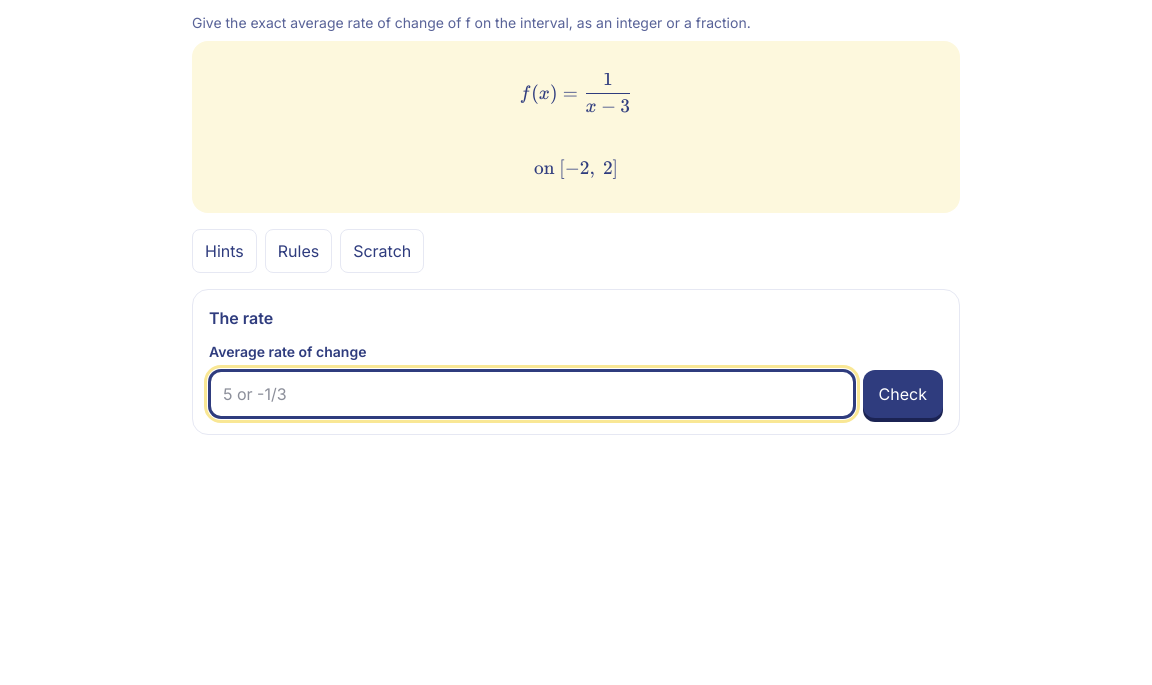
it: finishing a problem with the math keypad alone › a number answer: an average rate of change, −1/5
This screenshot has width=1152, height=685.
Click the field labelled "Average rate of change" at (532, 394), box 209,370 -> 855,418
(page scrolled)
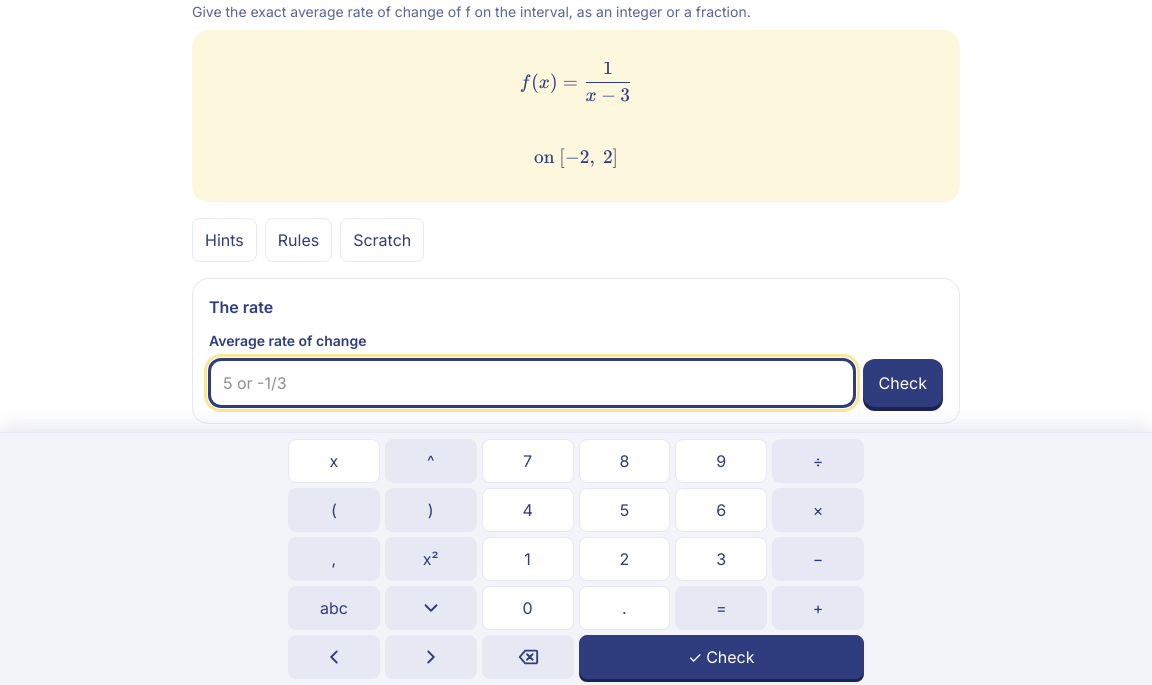
expect the element named "Math keypad" is shown: met, box 0,432 -> 1151,684
Click the button named "minus" at (818, 559), box 772,537 -> 864,581
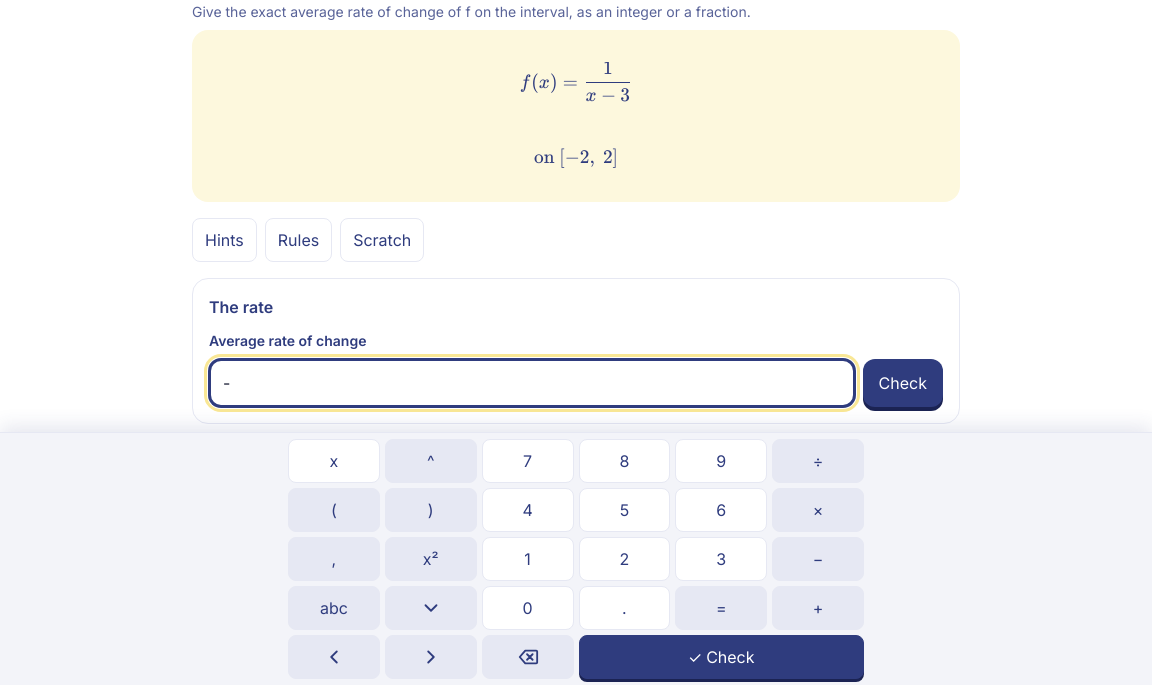
Click the button "1" at (528, 559), box 482,537 -> 574,581
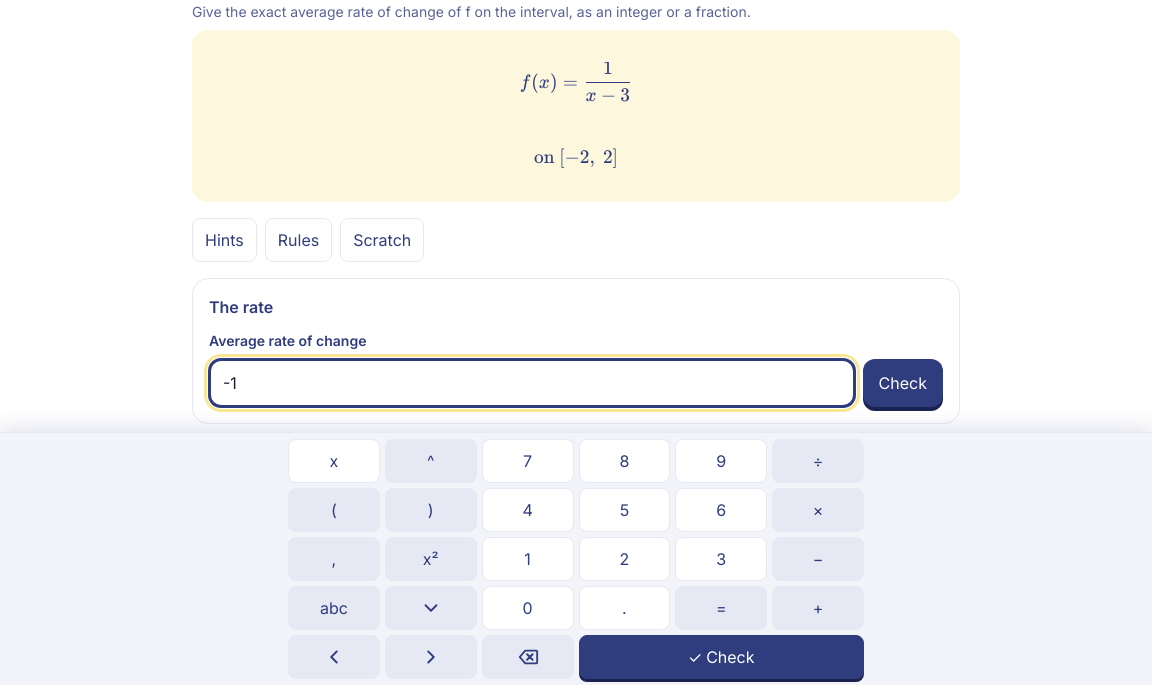
Click the button named "divide" at (818, 461), box 772,439 -> 864,483
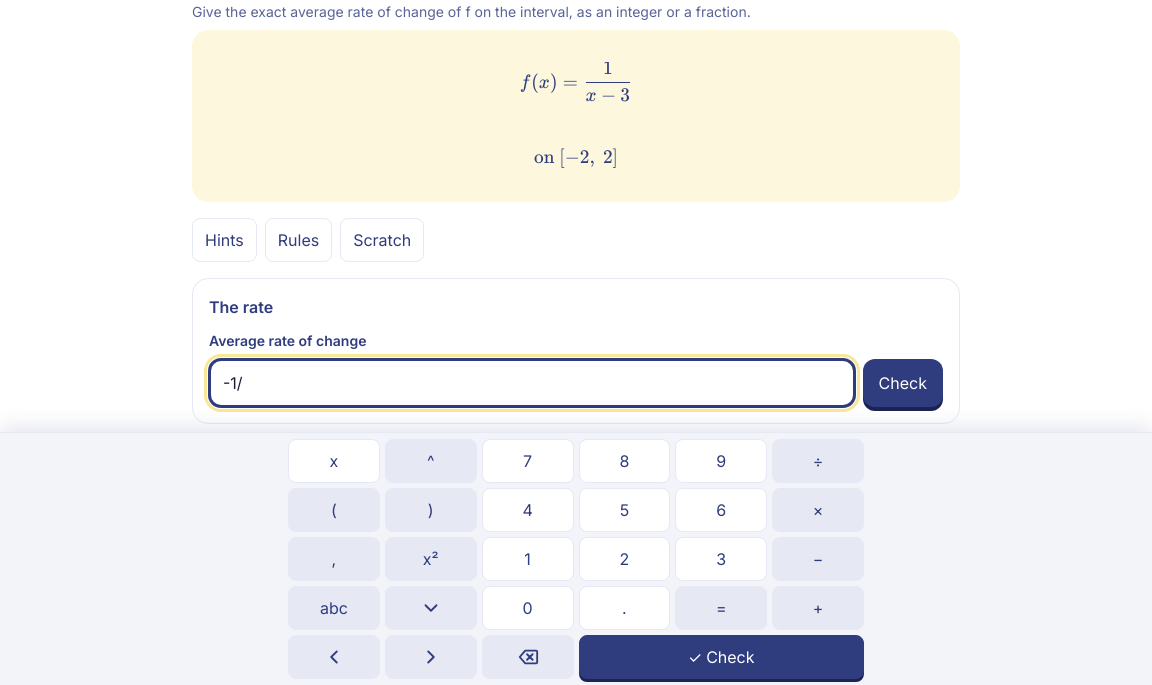
Click the button "5" at (624, 510), box 578,488 -> 670,532
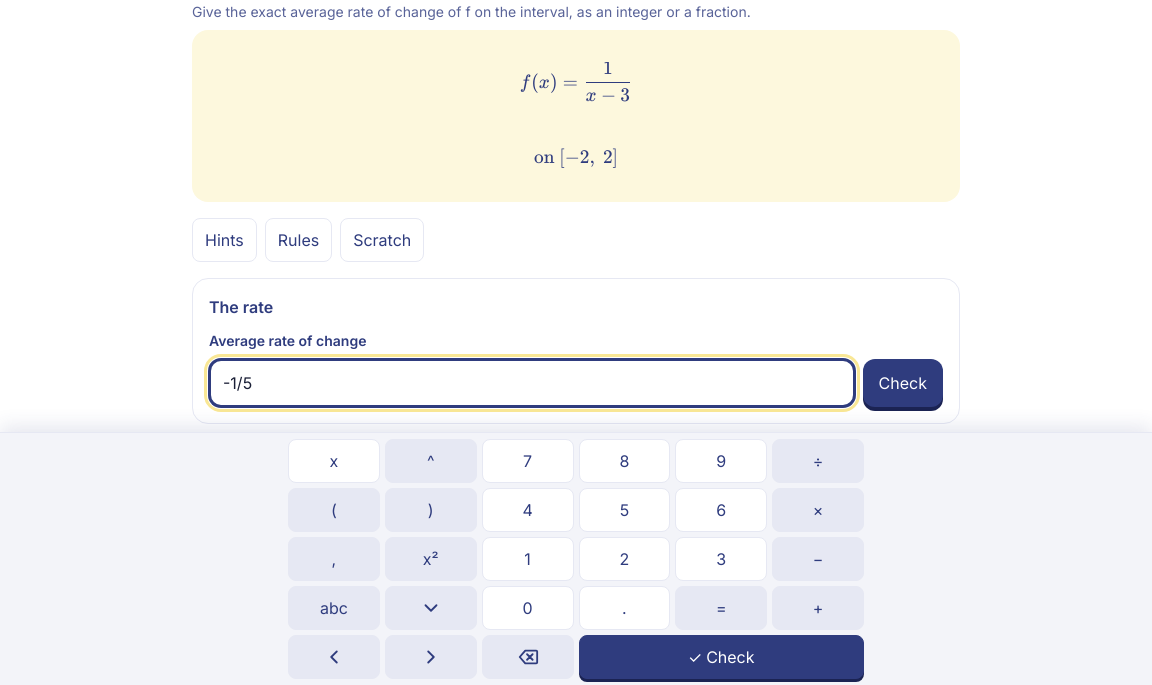
expect the field labelled "Average rate of change" holds "-1/5": met, box 209,359 -> 855,407
Click the button "✓ Check" at (721, 657), box 578,635 -> 864,679
(page scrolled)
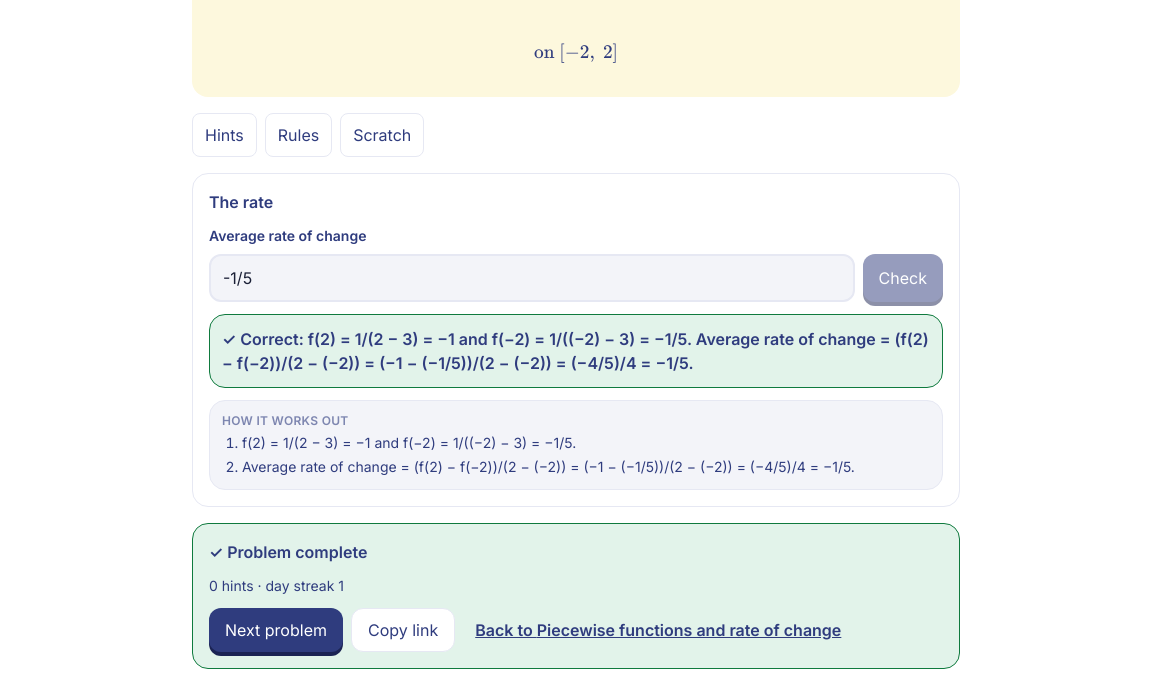
expect the heading "✓ Problem complete" is shown: met, box 209,542 -> 367,562
